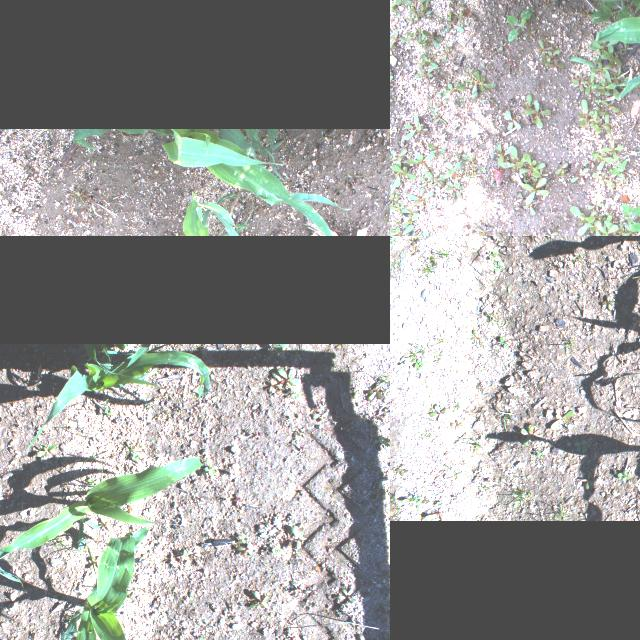crop: (71, 129, 352, 236), (0, 456, 202, 588), (24, 344, 210, 452), (60, 527, 161, 640), (595, 0, 640, 100), (603, 139, 640, 236), (181, 190, 252, 236)
weed: (590, 0, 640, 21), (504, 6, 534, 40), (268, 367, 302, 395), (74, 538, 96, 576), (522, 100, 550, 128), (524, 176, 550, 204), (516, 154, 546, 178), (619, 203, 640, 234), (602, 69, 622, 101), (403, 112, 423, 142), (510, 488, 532, 514), (470, 68, 492, 92), (406, 188, 434, 206), (600, 45, 622, 67), (438, 162, 462, 182), (550, 410, 574, 430), (520, 425, 544, 445), (390, 163, 416, 181), (570, 206, 596, 224), (502, 145, 522, 167), (516, 192, 534, 216), (576, 218, 600, 236), (441, 81, 467, 97), (602, 140, 624, 158), (498, 410, 516, 432), (587, 78, 615, 92), (458, 438, 482, 454), (578, 100, 592, 126), (540, 48, 560, 66), (404, 153, 434, 165), (428, 405, 448, 423), (442, 464, 462, 482), (592, 153, 612, 170), (442, 16, 463, 32), (430, 245, 454, 259), (593, 223, 618, 236), (429, 107, 447, 125), (610, 160, 626, 180), (248, 592, 268, 608), (484, 312, 506, 326), (202, 458, 218, 477), (590, 40, 608, 56), (422, 30, 438, 48), (390, 227, 422, 236), (336, 587, 354, 603), (400, 495, 424, 507), (418, 260, 436, 276), (390, 180, 400, 208), (550, 506, 570, 520), (390, 198, 408, 213), (506, 109, 518, 131), (292, 526, 304, 548), (422, 508, 444, 520), (370, 435, 390, 448), (536, 40, 552, 56), (236, 542, 252, 558), (288, 580, 304, 596), (544, 59, 562, 73), (580, 472, 594, 490), (426, 143, 446, 155), (36, 445, 56, 457), (562, 336, 574, 356), (584, 72, 594, 95), (571, 168, 587, 182), (554, 162, 568, 178), (446, 182, 460, 198), (366, 385, 382, 399), (601, 294, 615, 310), (590, 172, 612, 182), (418, 55, 436, 67), (583, 224, 600, 236), (590, 64, 610, 74), (630, 258, 640, 278), (402, 348, 416, 362), (568, 246, 582, 260), (440, 46, 452, 62), (622, 224, 638, 236), (394, 251, 406, 267), (402, 0, 423, 9), (415, 68, 433, 78), (469, 329, 479, 347), (590, 110, 598, 132), (570, 79, 584, 91), (270, 543, 282, 557), (574, 440, 588, 452), (394, 464, 408, 476), (434, 333, 446, 347), (413, 344, 425, 358), (390, 150, 405, 161), (601, 101, 617, 111), (404, 212, 416, 225), (496, 143, 502, 167), (583, 158, 597, 168), (400, 32, 414, 42), (475, 226, 489, 236), (270, 344, 290, 351), (302, 584, 316, 594), (449, 420, 463, 430), (604, 114, 610, 136), (405, 13, 417, 24), (421, 176, 434, 186), (416, 10, 432, 18), (312, 413, 328, 421), (418, 432, 434, 440), (453, 10, 462, 24), (390, 29, 397, 47), (612, 70, 624, 80), (130, 452, 142, 462), (89, 557, 99, 569), (617, 471, 629, 481), (492, 260, 502, 272), (427, 254, 437, 266), (542, 229, 558, 236), (186, 550, 200, 558), (524, 236, 538, 244), (586, 204, 604, 210), (392, 503, 398, 521), (413, 498, 422, 510), (499, 337, 508, 349), (424, 78, 434, 88), (416, 38, 426, 48), (380, 374, 390, 384), (54, 538, 64, 548), (413, 359, 423, 369), (608, 182, 620, 190), (100, 518, 108, 530), (633, 77, 640, 90), (237, 534, 246, 544), (410, 237, 420, 246), (428, 356, 439, 364), (536, 450, 544, 460), (434, 500, 444, 508), (420, 496, 430, 504), (409, 246, 419, 254), (452, 403, 460, 412), (488, 251, 497, 259), (390, 0, 403, 5), (390, 494, 395, 507), (478, 98, 494, 102), (104, 408, 112, 416), (359, 634, 369, 640), (479, 486, 489, 492), (431, 350, 441, 356), (286, 633, 294, 640), (86, 478, 95, 484), (399, 360, 407, 366), (390, 236, 396, 243), (421, 230, 427, 236), (352, 390, 356, 398), (579, 293, 583, 301), (493, 233, 501, 236), (506, 285, 509, 293), (554, 98, 558, 102), (522, 234, 530, 236), (390, 264, 392, 271)
